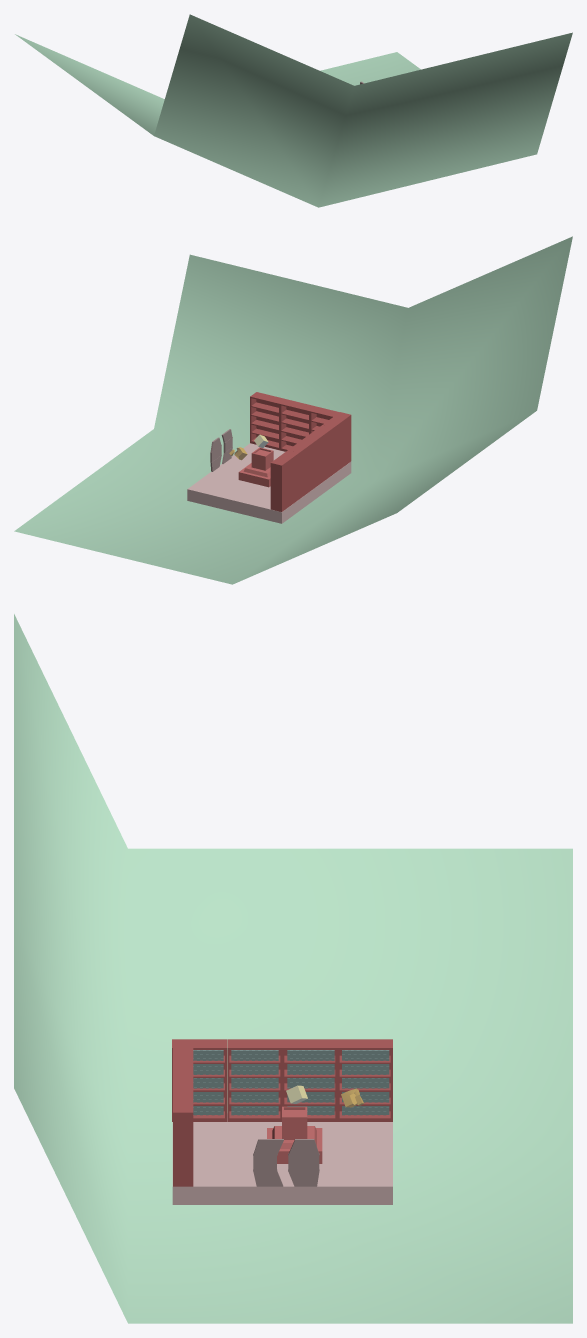
File: kernel.fbx
3 renders of one model, top to bottom at view 1: azimuth 30°, elevation 25°; view 2: azimuth 150°, elevation 25°; view 3: azimuth 270°, elevation 25°, orthographic. The views are drawn at different scales.
Visible parts, largest first — view 1: pCube153; view 2: pCube153, pCube52, pCube65, pCube59, pCube145, pCube147, pCube148, pCube149, pCube60, pCube146; view 3: pCube153, pCube52, pCube151, pCube142, pCube148, pCube65, pCube150, pCube59, pCube147, pCube152, pCube60, pCube149 (+2 smaller).
Part boxes in pixels (bbox=[...]): pCube153: bbox=[15, 14, 572, 207]; pCube153: bbox=[14, 236, 572, 584]; pCube52: bbox=[187, 443, 351, 523]; pCube65: bbox=[270, 450, 299, 511]; pCube59: bbox=[250, 392, 286, 450]; pCube145: bbox=[280, 399, 316, 451]; pCube147: bbox=[288, 437, 316, 498]; pCube148: bbox=[305, 425, 333, 486]; pCube149: bbox=[323, 412, 351, 473]; pCube60: bbox=[238, 447, 273, 487]; pCube146: bbox=[310, 406, 350, 433]; pCube153: bbox=[14, 614, 572, 1323]; pCube52: bbox=[172, 1113, 392, 1204]; pCube151: bbox=[231, 1050, 278, 1115]; pCube142: bbox=[342, 1050, 389, 1115]; pCube148: bbox=[227, 1039, 282, 1121]; pCube65: bbox=[337, 1039, 392, 1121]; pCube150: bbox=[287, 1050, 334, 1115]; pCube59: bbox=[173, 1089, 193, 1186]; pCube147: bbox=[282, 1039, 337, 1121]; pCube152: bbox=[193, 1050, 223, 1115]; pCube60: bbox=[267, 1106, 322, 1163]; pCube149: bbox=[172, 1039, 226, 1121].
Bounding box in the file's own units: 28.06 × 18.19 × 22.3.
